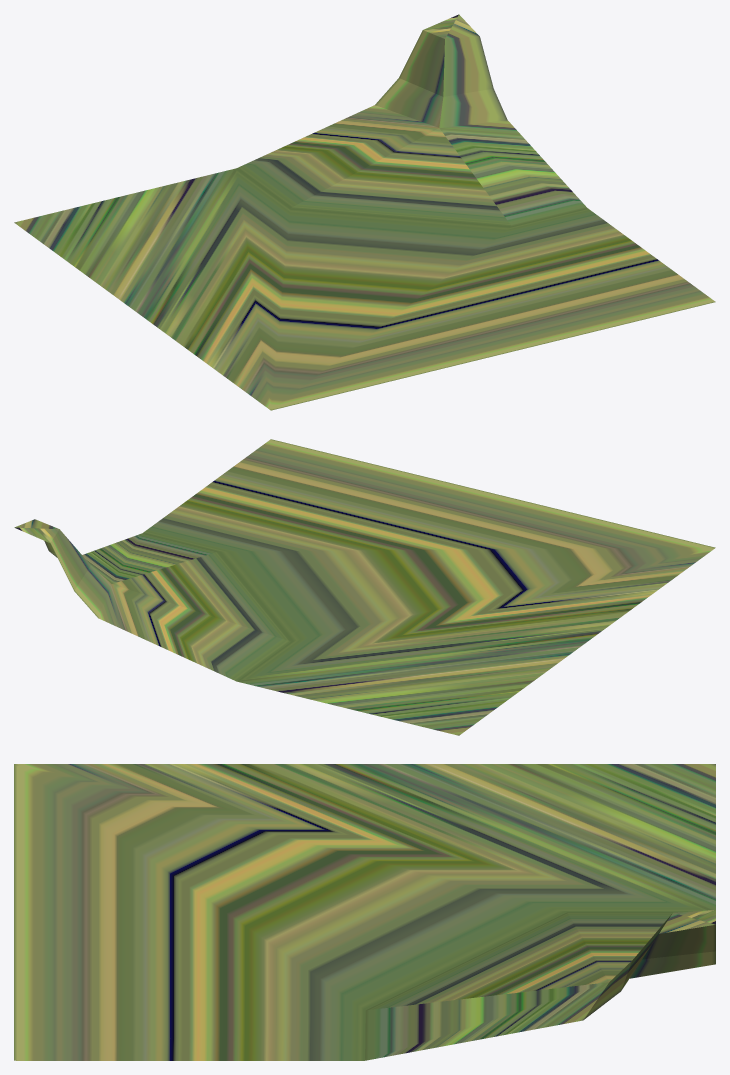
Rendered from Mesh_WaterTile1InsideCorner.fbx.
3 views of the same model, one above another, from view 1: azimuth 30°, elevation 25°; view 2: azimuth 150°, elevation 25°; view 3: azimuth 270°, elevation 25° (orthographic). The views are drawn at different scales.
Visible parts, largest first — view 1: WaterTile1InsideCorner; view 2: WaterTile1InsideCorner; view 3: WaterTile1InsideCorner.
Boxes of the visible parts, <box> form: WaterTile1InsideCorner: <box>14,14,715,410</box>; WaterTile1InsideCorner: <box>14,439,715,735</box>; WaterTile1InsideCorner: <box>14,764,715,1060</box>.
Bounding box in the file's own units: 10000 × 2140 × 10000.
